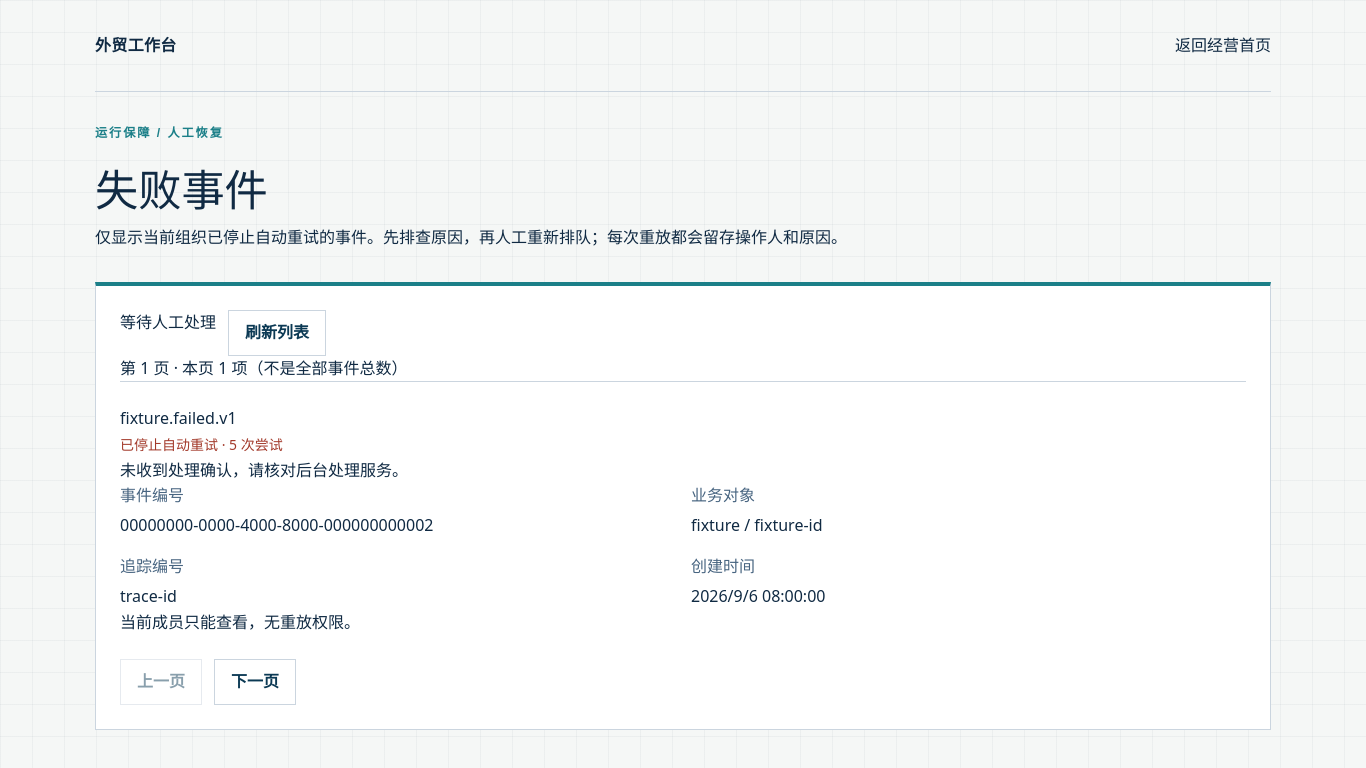
Test: supports read-only pagination
The image size is (1366, 768).
Expected: the text "当前成员只能查看，无重放权限。" is shown, top-left (120, 610), bottom-right (360, 632)
Click the button "下一页".
click(255, 682)  # box top-left (214, 659), bottom-right (296, 705)
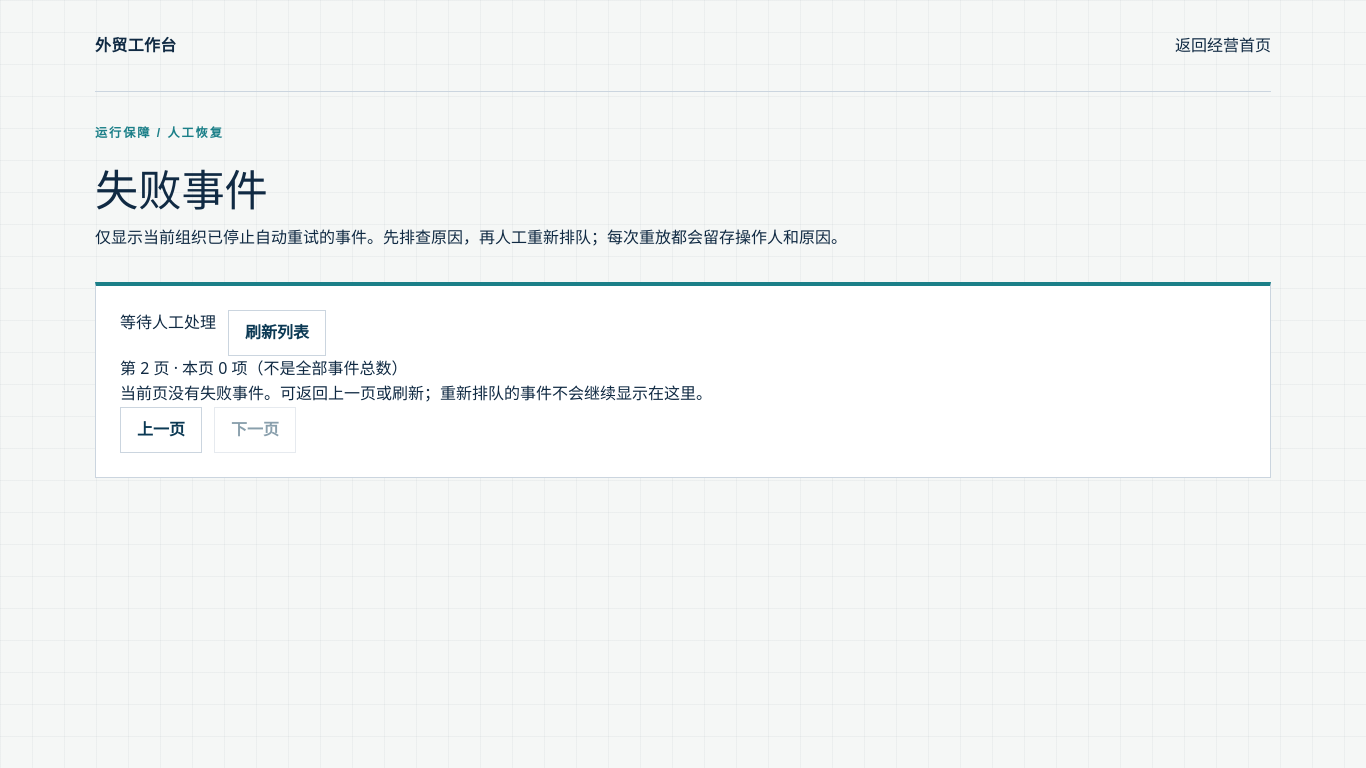
Expected: the text "当前页没有失败事件。可返回上一页或刷新；重新排队的事件不会继续显示在这里。" is shown, top-left (120, 382), bottom-right (712, 404)
Expected: the button "下一页" is disabled, top-left (214, 407), bottom-right (296, 452)
